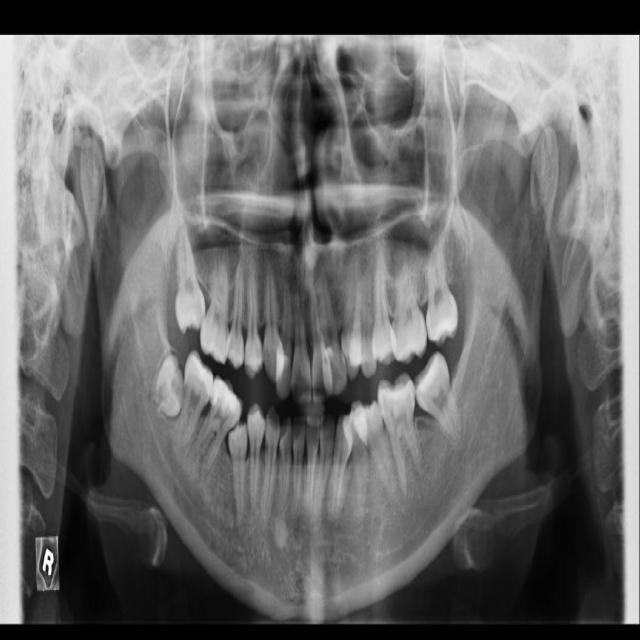73: (584, 580, 592, 592)
BioHorizons Implant: (424, 234, 461, 346)
Blue Sky Bio Implant: (404, 349, 466, 448)
Caries: (175, 223, 207, 337)
Implant: (176, 348, 217, 450)
Keystone Dental Implant: (153, 354, 186, 421)
